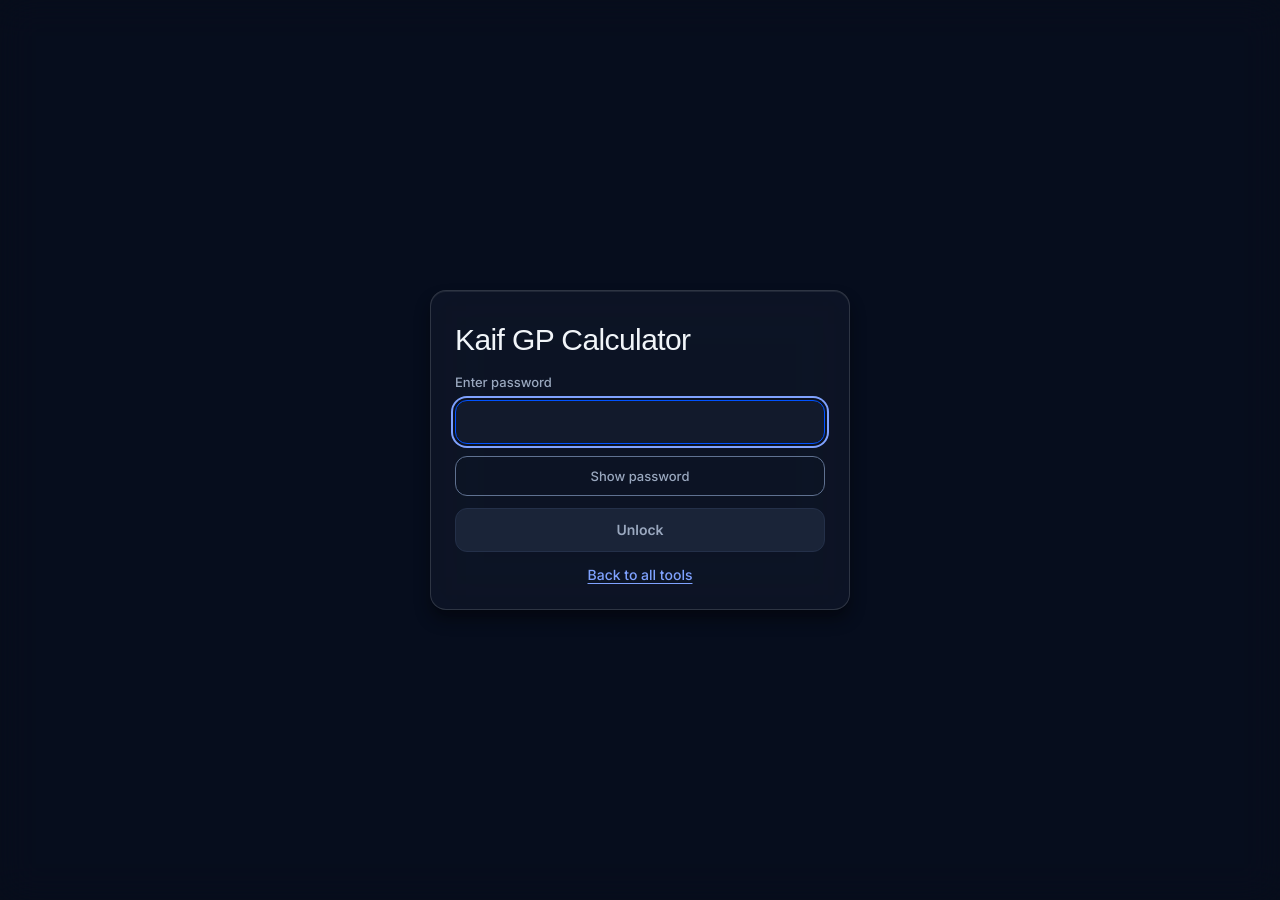
it: LockedScreen › sends the password to the server and shows a wrong-password message
Type "nope" into the password field labelled "Enter password" at (640, 422), box 455,400 -> 825,444
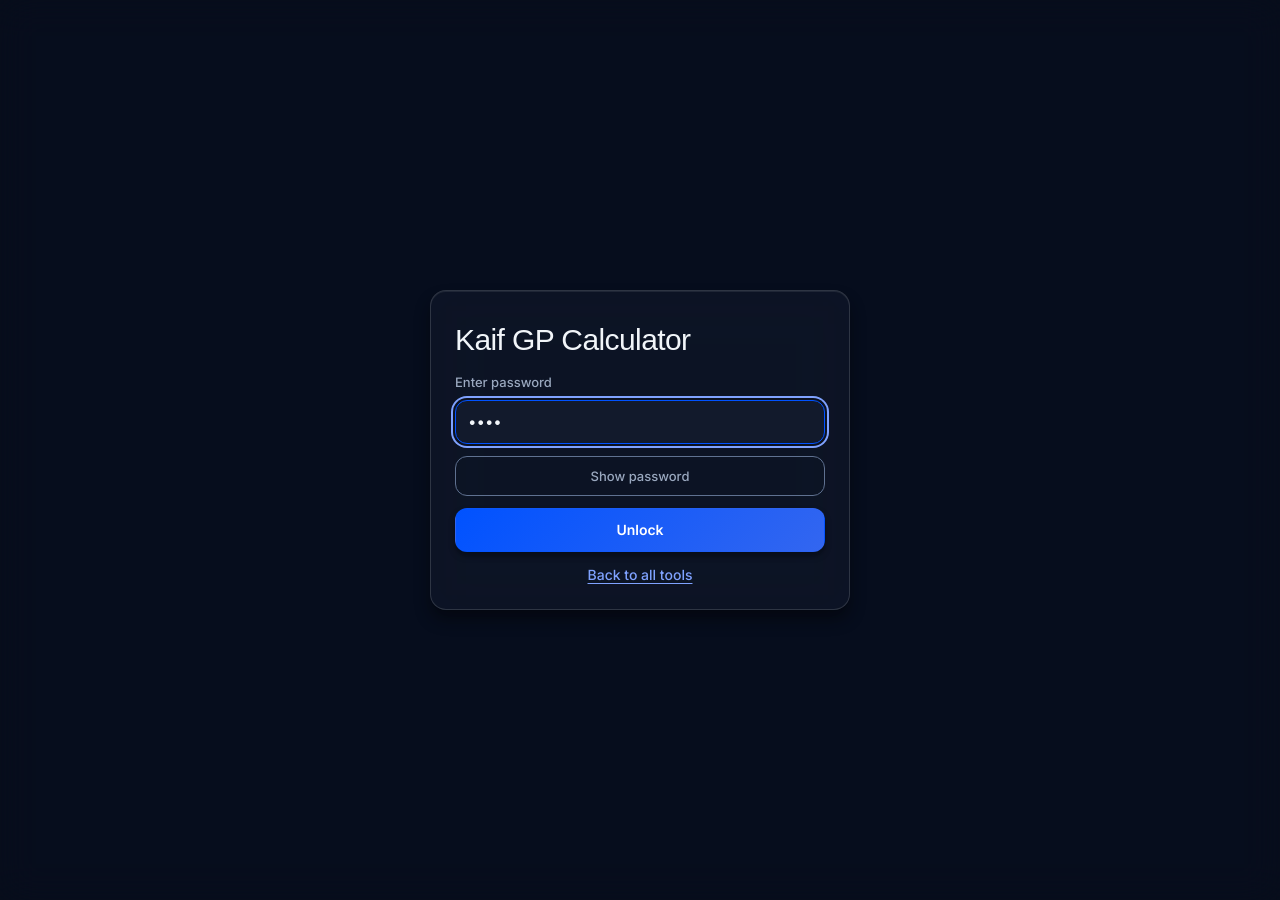
Click the button "Unlock" at (640, 530), box 455,508 -> 825,552
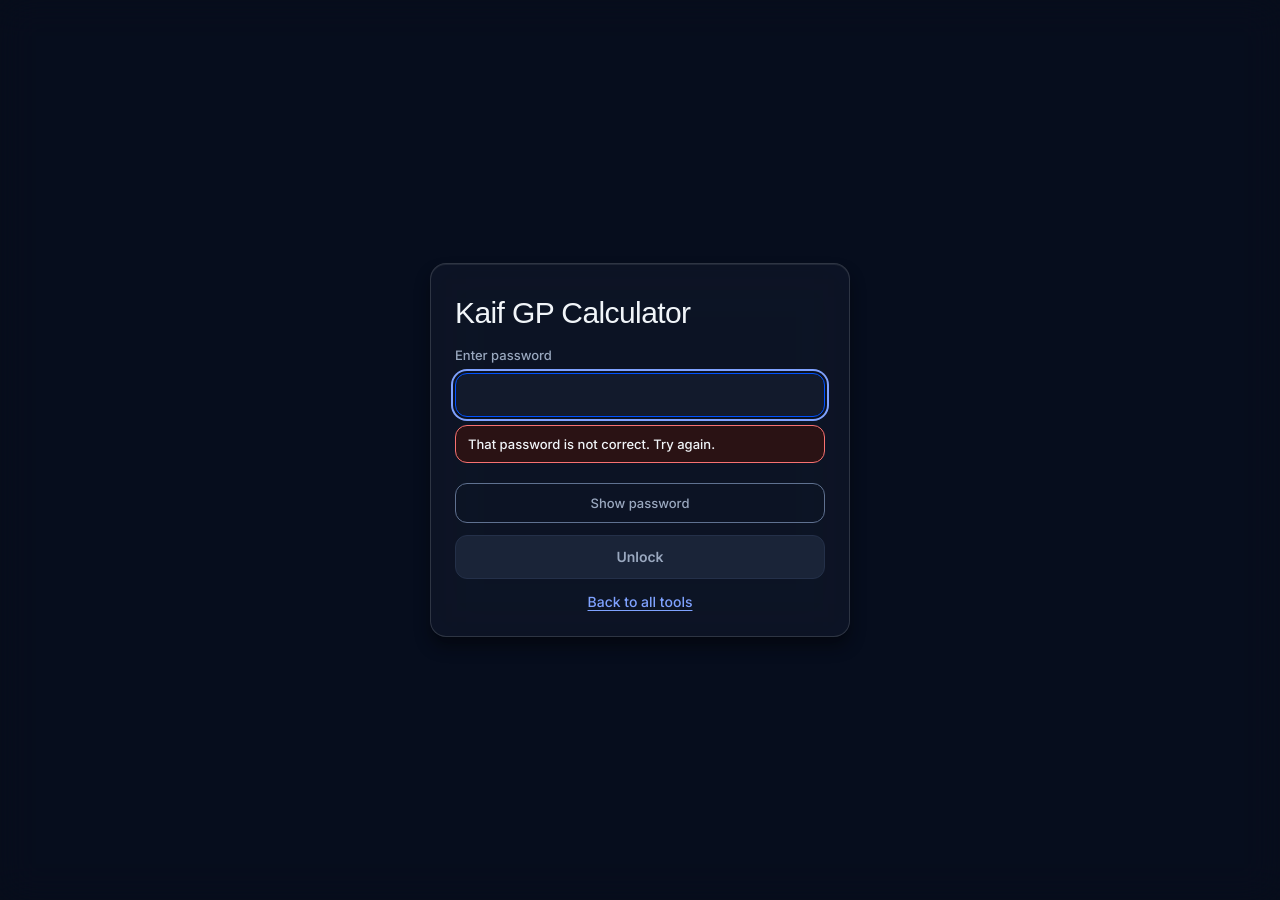
expect the dialog is shown: met, box 430,262 -> 850,638
expect the message shows "not correct": met, box 468,436 -> 715,452
